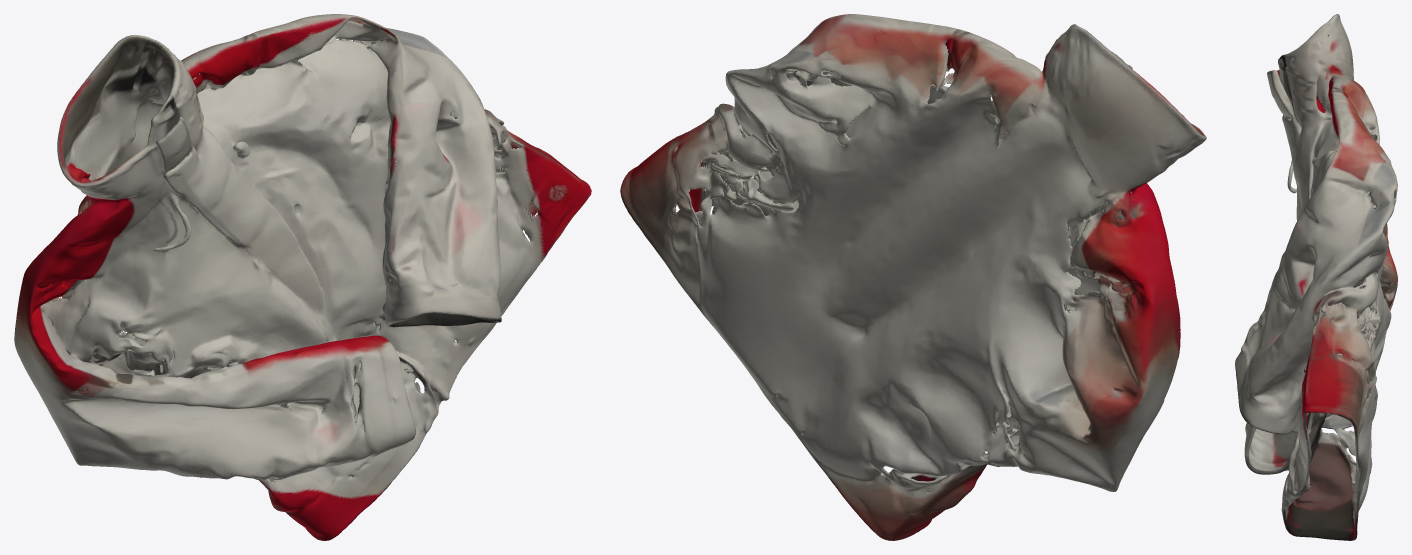
Rendered from hoodie.glb.
The picture shows the model from 3 angles, left to right: view 1: azimuth 30°, elevation 25°; view 2: azimuth 150°, elevation 25°; view 3: azimuth 270°, elevation 25°; orthographic projection. The views are drawn at different scales.
Parts seen in each view (by area): view 1: tripo_node_7890074d-4984-44b2-87d7-8044abe7abb8; view 2: tripo_node_7890074d-4984-44b2-87d7-8044abe7abb8; view 3: tripo_node_7890074d-4984-44b2-87d7-8044abe7abb8.
Part boxes in pixels (x1=…): tripo_node_7890074d-4984-44b2-87d7-8044abe7abb8: x1=14, y1=14, x2=591, y2=540; tripo_node_7890074d-4984-44b2-87d7-8044abe7abb8: x1=620, y1=14, x2=1206, y2=540; tripo_node_7890074d-4984-44b2-87d7-8044abe7abb8: x1=1235, y1=14, x2=1397, y2=540.
Size of the model in its own units: 1 by 0.9384 by 0.3058.
Materials: 1 (1 with a texture image).
